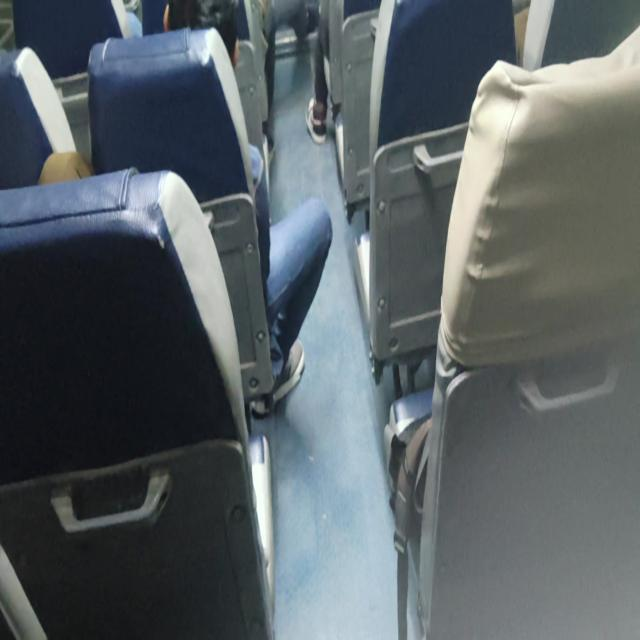person: (155, 0, 249, 91)
